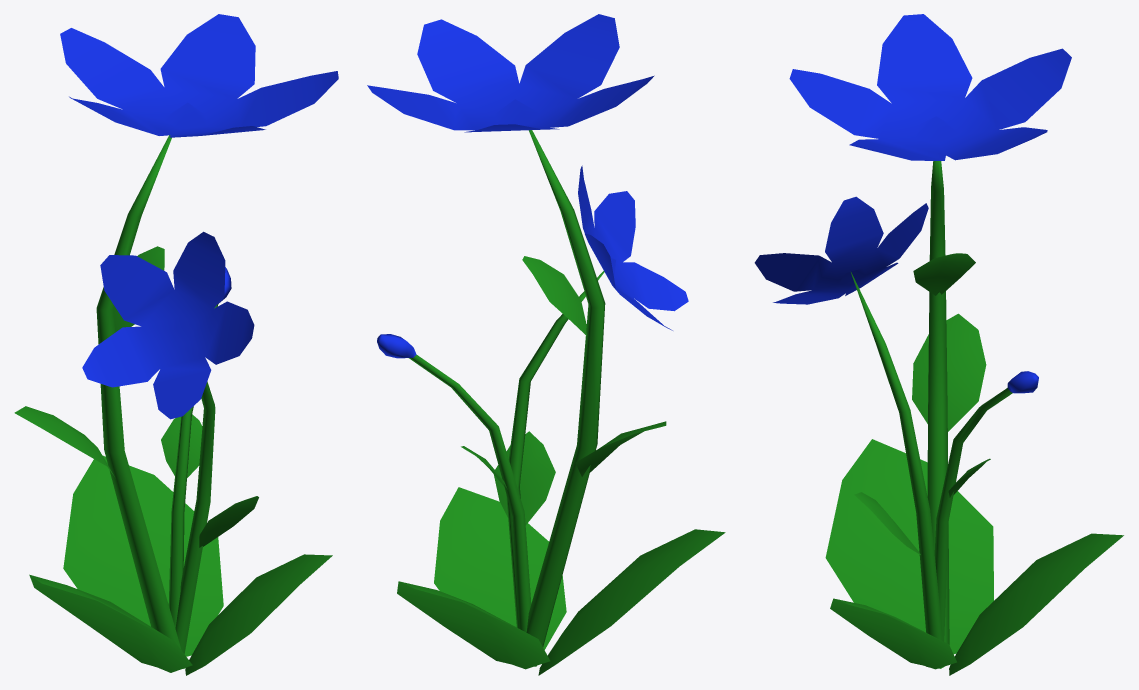
File: flowerblue.glb
The picture shows the model from 3 angles, left to right: view 1: azimuth 30°, elevation 25°; view 2: azimuth 150°, elevation 25°; view 3: azimuth 270°, elevation 25°; orthographic projection.
Visible parts, largest first — view 1: Flower.007; view 2: Flower.007; view 3: Flower.007.
Part boxes in pixels (left/top/right/bottom): Flower.007: left=14, top=14, right=338, bottom=675; Flower.007: left=367, top=14, right=725, bottom=675; Flower.007: left=754, top=14, right=1123, bottom=675.
Size of the model in its own units: 1.36 by 2.62 by 1.48.
